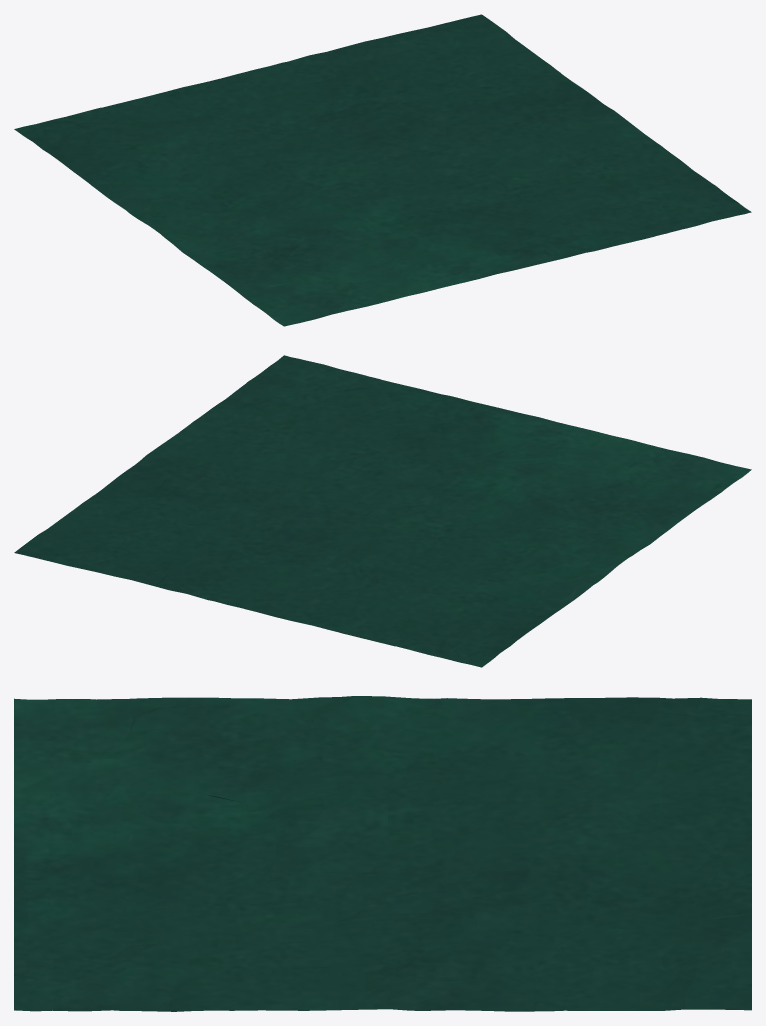
3 views of the same model, one above another, from view 1: azimuth 30°, elevation 25°; view 2: azimuth 150°, elevation 25°; view 3: azimuth 270°, elevation 25° (orthographic). The views are drawn at different scales.
Size of the model in its own units: 104 by 0.7298 by 104.
Materials: 2 (2 with a texture image).
